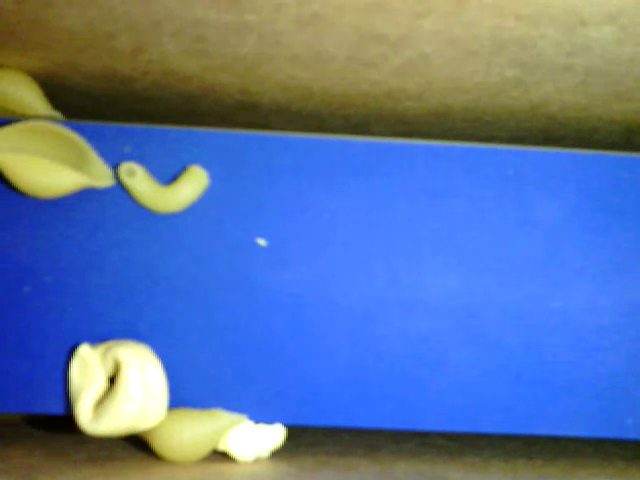elbow: (114, 160, 213, 216)
shell: (3, 122, 117, 208), (143, 406, 248, 464), (3, 65, 70, 123)
tortellini: (62, 340, 171, 436)
